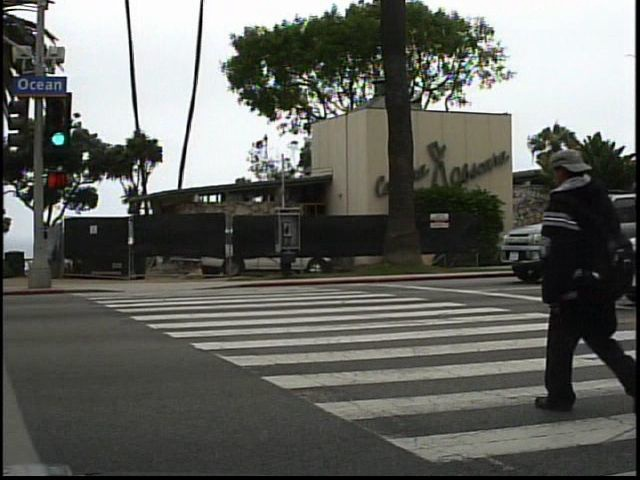person: (527, 135, 631, 416)
